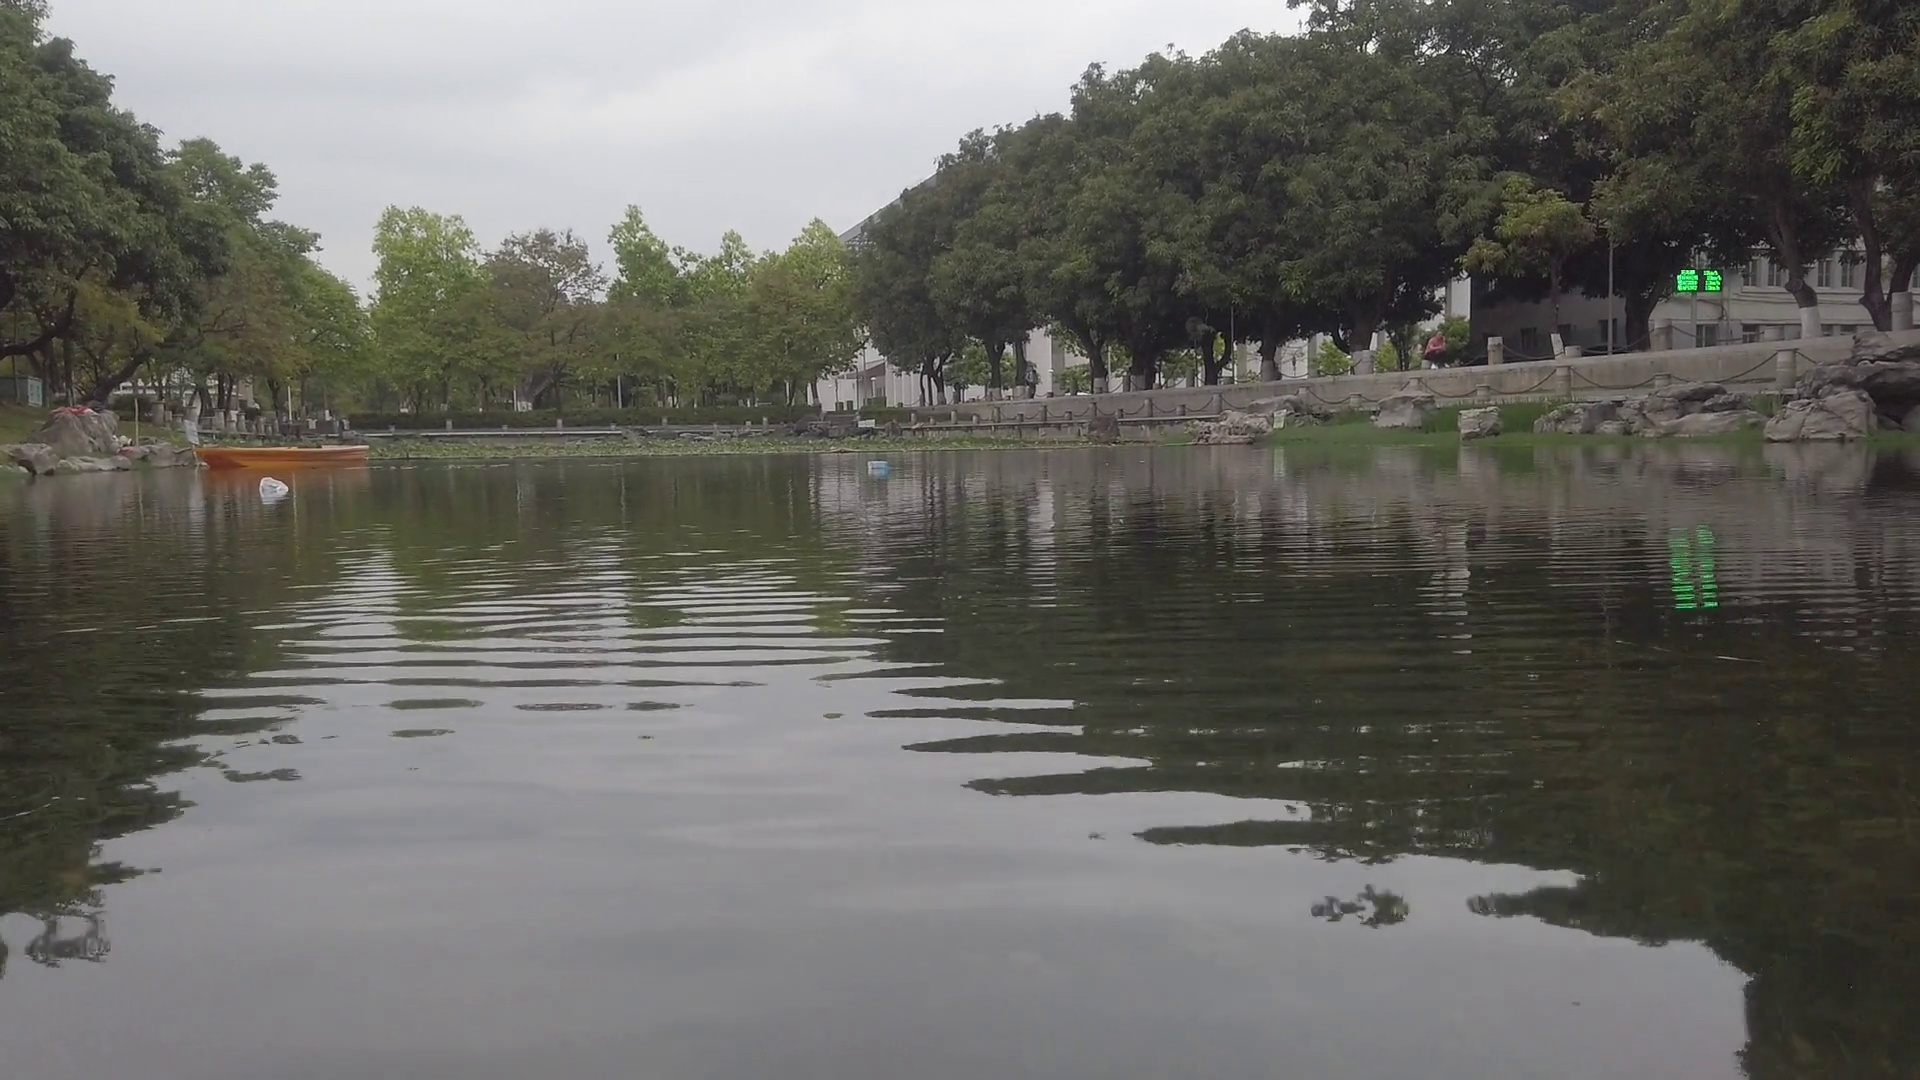carton: (868, 462, 887, 468)
plastic: (255, 477, 290, 501)
